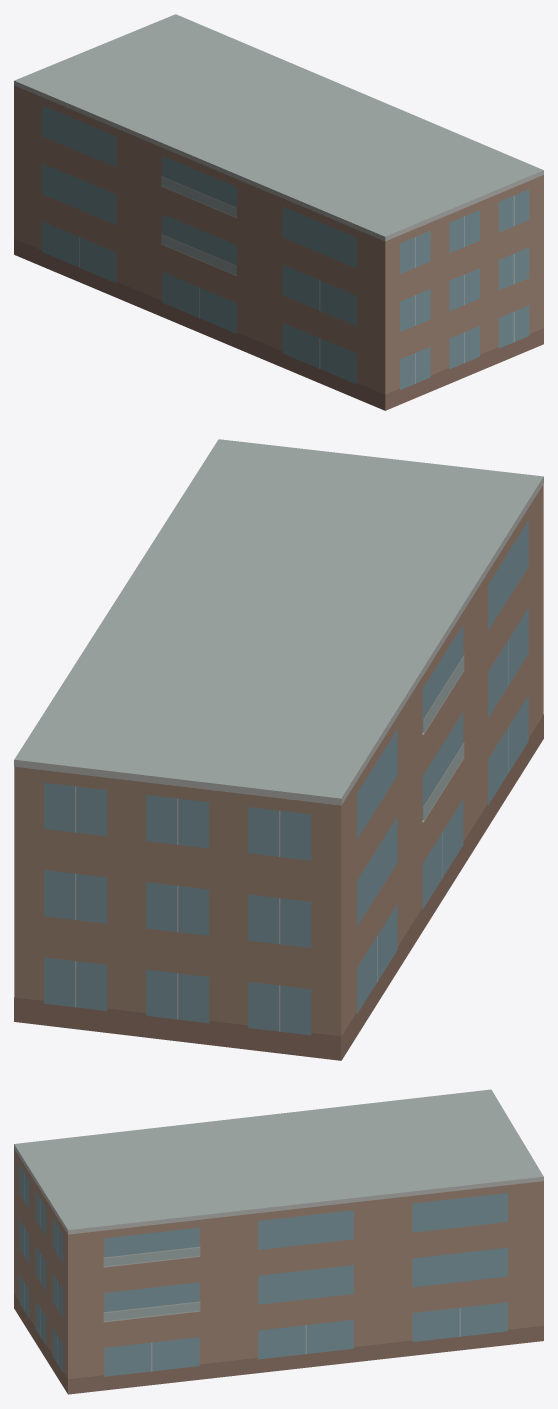
File: survey-upis-32715340.glb
The picture shows the model from 3 angles, top to bottom: view 1: azimuth 30°, elevation 25°; view 2: azimuth 150°, elevation 25°; view 3: azimuth 270°, elevation 25°; orthographic projection. The views are drawn at different scales.
Visible parts, largest first — view 1: survey-upis-32715340.tmp; view 2: survey-upis-32715340.tmp; view 3: survey-upis-32715340.tmp.
Part boxes in pixels (bbox=[...]): survey-upis-32715340.tmp: bbox=[14, 14, 543, 410]; survey-upis-32715340.tmp: bbox=[14, 439, 543, 1060]; survey-upis-32715340.tmp: bbox=[14, 1089, 543, 1394].
Size of the model in its own units: 16.83 by 9.15 by 26.75.
